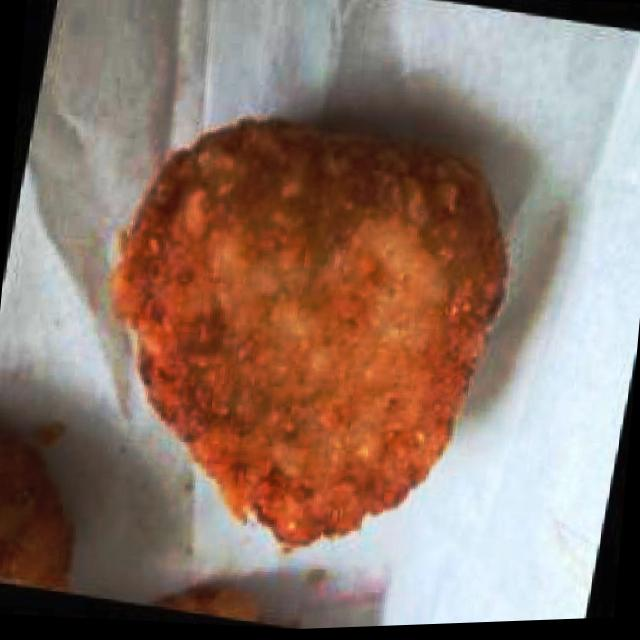Hashbrown: (93, 99, 520, 570)
